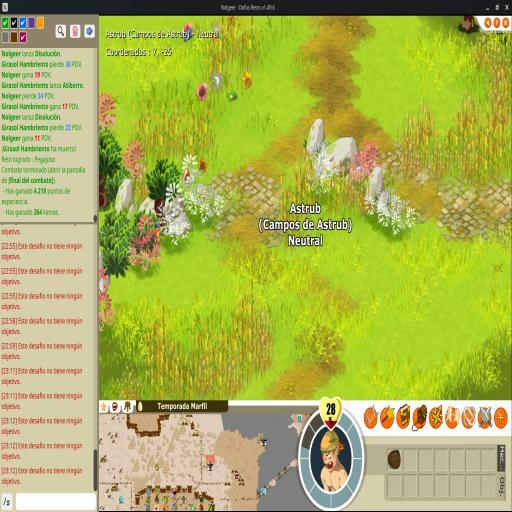Enemigos: (182, 22, 195, 42), (210, 70, 223, 90), (211, 20, 222, 42), (196, 82, 208, 102), (241, 70, 253, 90), (182, 167, 193, 185), (197, 156, 208, 174), (226, 90, 238, 102)
Personaje: (152, 219, 162, 247)
